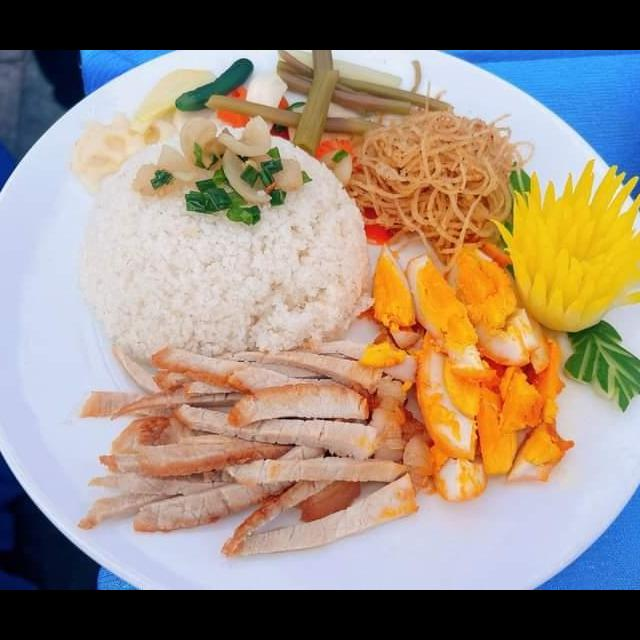bi: (340, 106, 540, 279)
com: (72, 120, 378, 370)
dua chua: (204, 51, 456, 169)
suon: (74, 337, 420, 561)
trung: (350, 238, 578, 505)
